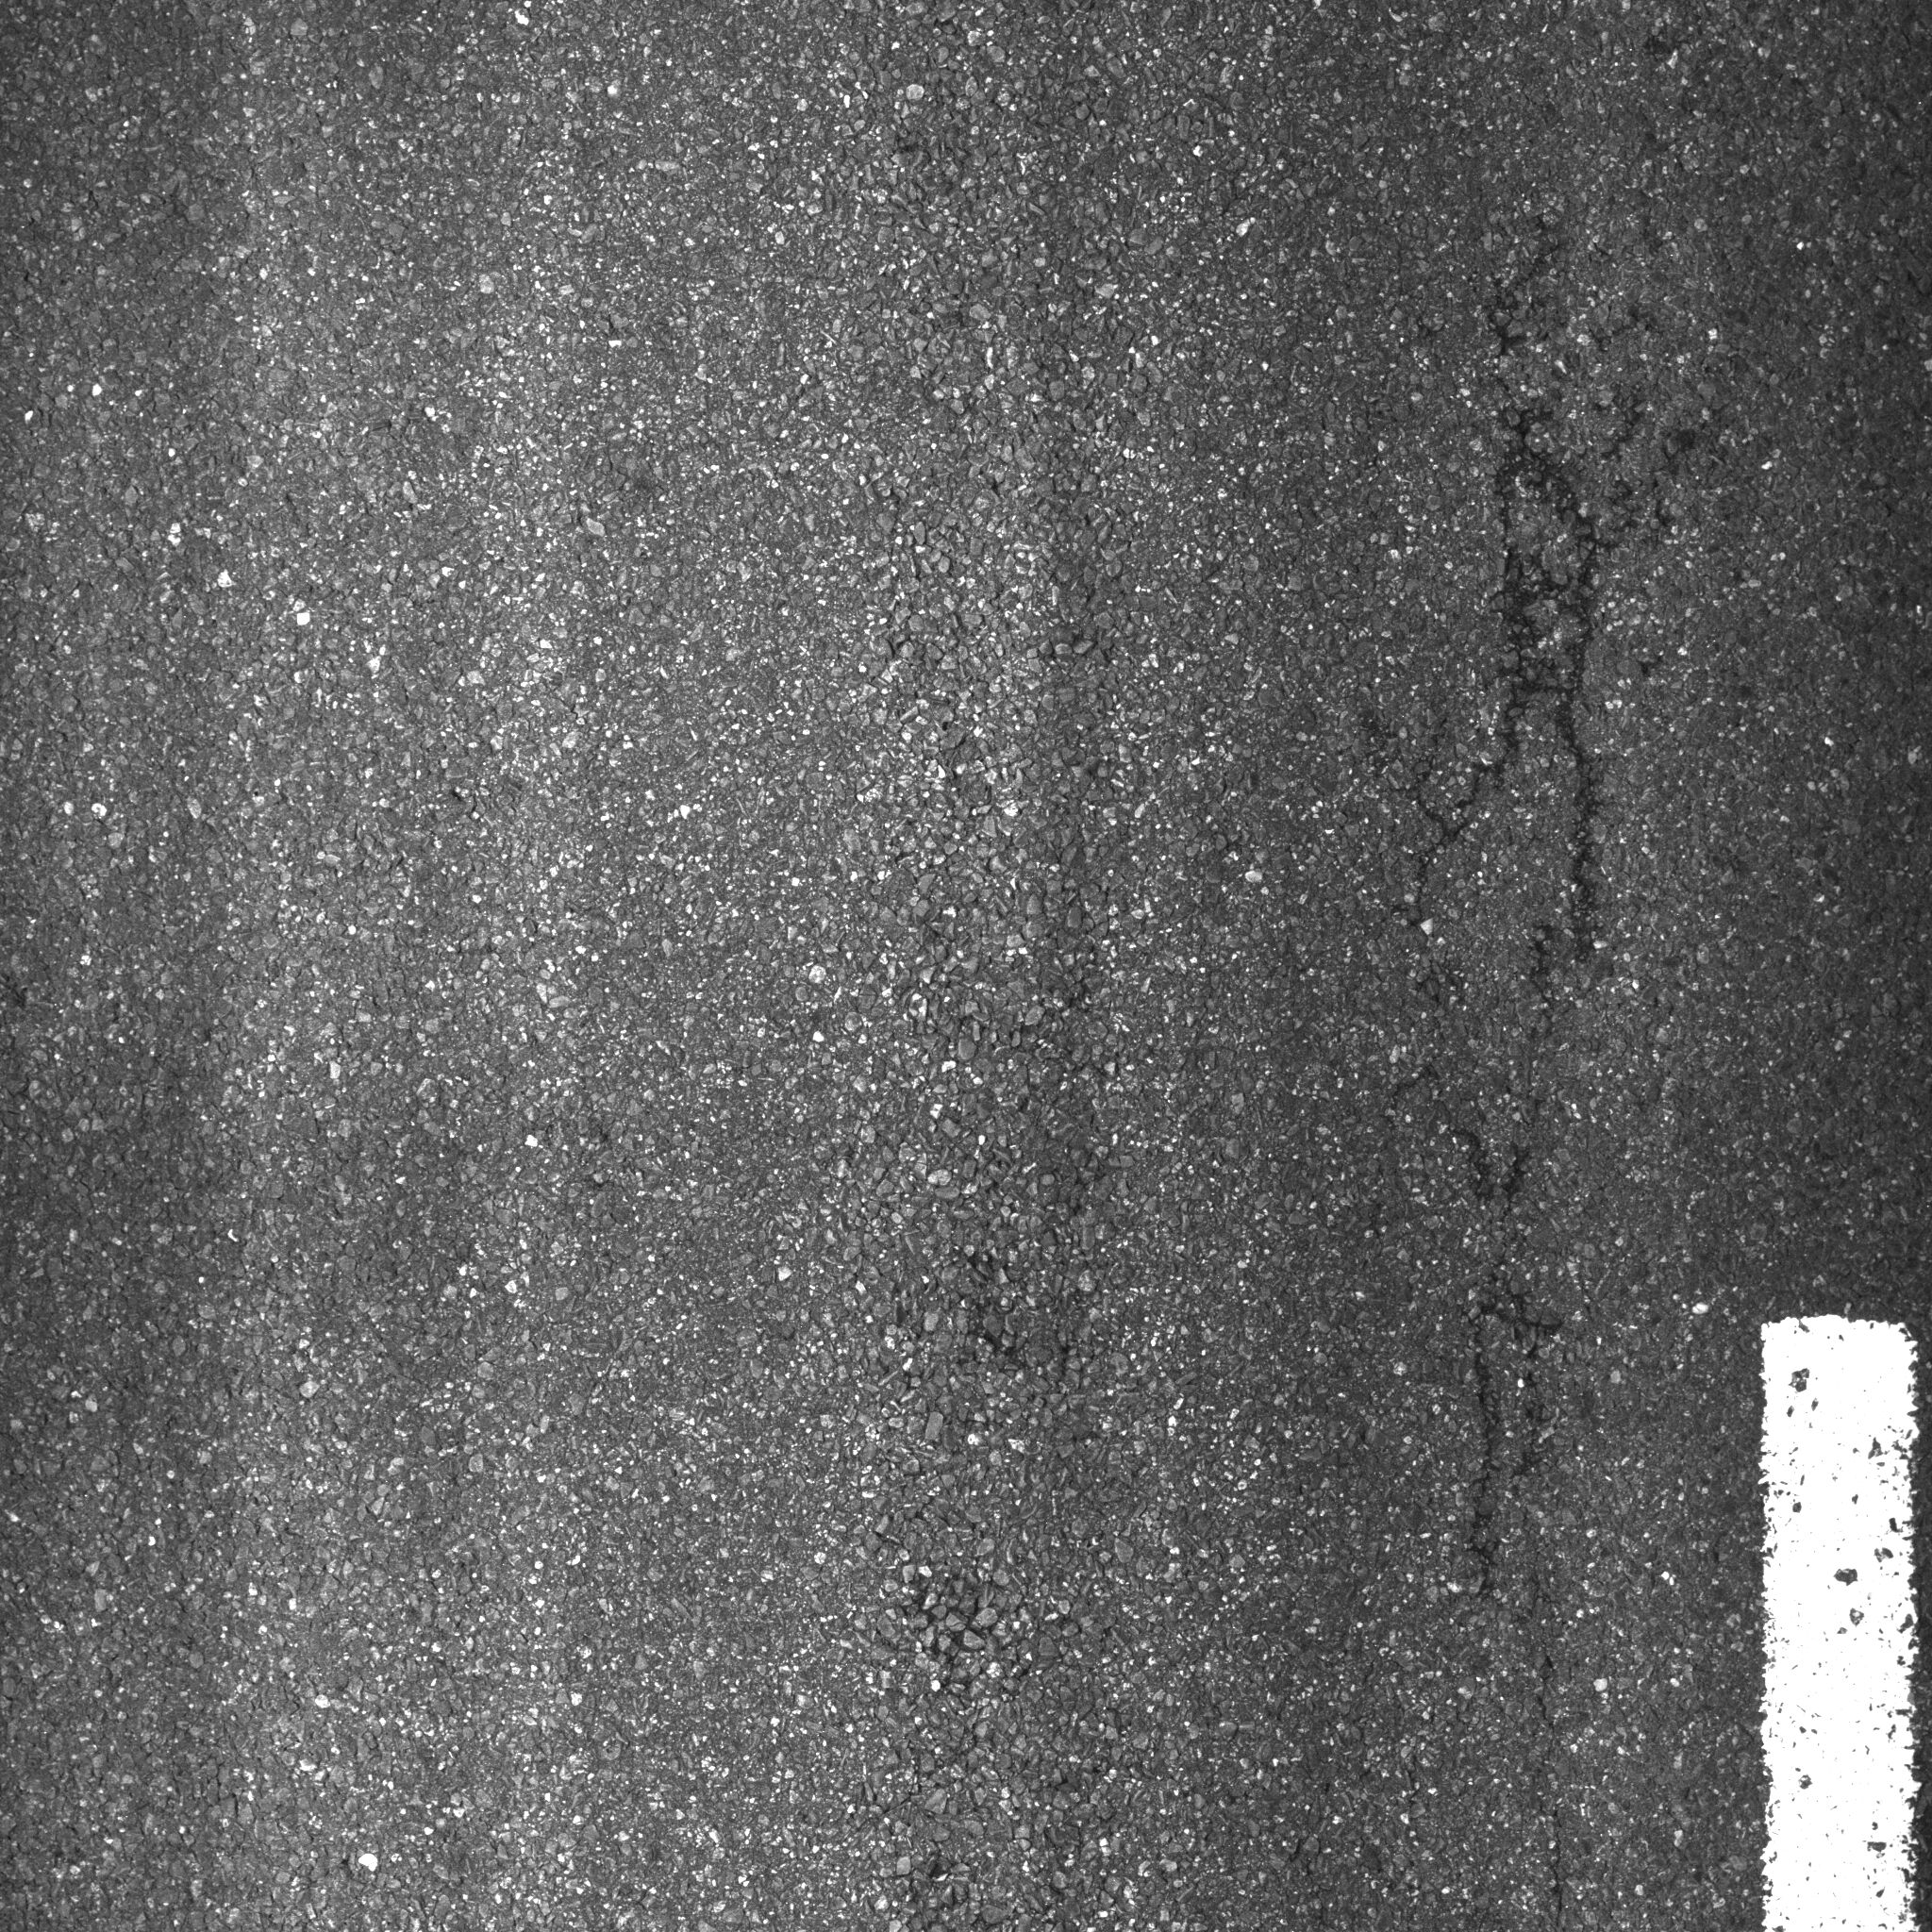longitudinal: (1398, 200, 1631, 1635), (1525, 1654, 1592, 1932)
